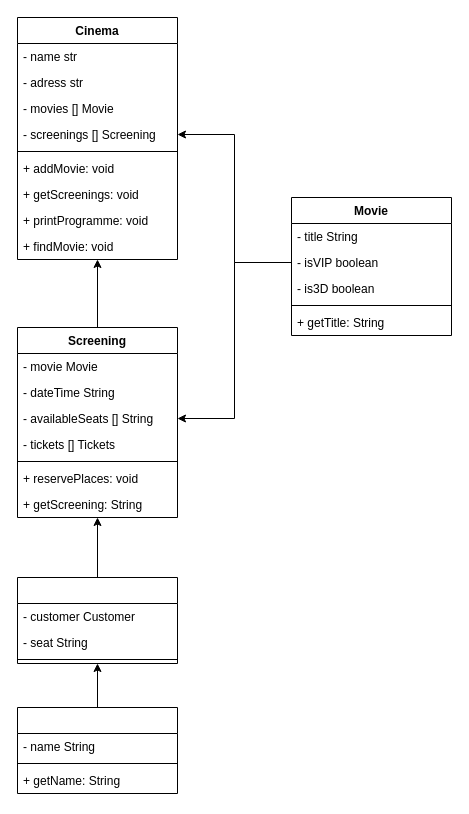
The diagram is 469 pixels wide and 814 high, and some of its shapes have lost their labels. The box of each missing label's shape, as (x1, y1, x2, y2) in pixels:
Customer: (16, 706, 178, 794)
Ticket: (16, 576, 178, 664)
